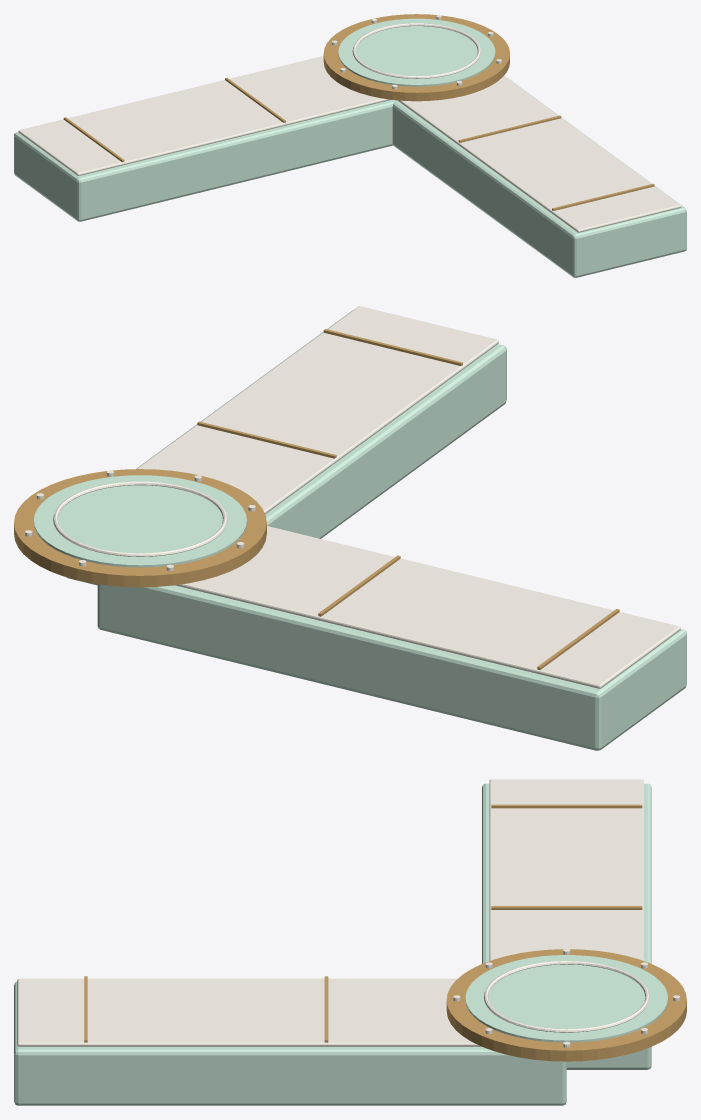
File: bridge_mint.glb
3 renders of one model, top to bottom at view 1: azimuth 30°, elevation 25°; view 2: azimuth 150°, elevation 25°; view 3: azimuth 270°, elevation 25°, orthographic. The views are drawn at different scales.
Parts seen in each view (by area): view 1: West marble, West bridge, South marble, South bridge, Disc inlay, Disc rim, Disc fine line; view 2: West bridge, West marble, South marble, South bridge, Disc inlay, Disc rim, Disc fine line, Walking joint.001, Walking joint.003; view 3: South bridge, South marble, West marble, Disc inlay, Disc rim, West bridge, Disc fine line, Walking joint.002, Walking joint.
Part boxes in pixels (bbox=[...]): West marble: bbox=[18, 56, 390, 175]; West bridge: bbox=[14, 100, 396, 221]; South marble: bbox=[397, 76, 681, 232]; South bridge: bbox=[392, 76, 686, 277]; Disc inlay: bbox=[338, 18, 495, 86]; Disc rim: bbox=[323, 14, 509, 101]; Disc fine line: bbox=[352, 23, 481, 78]; West bridge: bbox=[97, 584, 686, 750]; West marble: bbox=[176, 526, 680, 688]; South marble: bbox=[136, 306, 498, 514]; South bridge: bbox=[66, 310, 506, 585]; Disc inlay: bbox=[34, 475, 246, 567]; Disc rim: bbox=[14, 469, 266, 587]; Disc fine line: bbox=[53, 481, 227, 556]; Walking joint.001: bbox=[197, 421, 336, 458]; Walking joint.003: bbox=[323, 329, 462, 365]; South bridge: bbox=[14, 981, 566, 1105]; South marble: bbox=[17, 978, 480, 1046]; West marble: bbox=[489, 779, 643, 960]; Disc inlay: bbox=[465, 955, 667, 1042]; Disc rim: bbox=[446, 949, 686, 1061]; West bridge: bbox=[482, 783, 651, 1069]; Disc fine line: bbox=[484, 961, 649, 1032]; Walking joint.002: bbox=[491, 804, 642, 808]; Walking joint: bbox=[491, 906, 642, 909].
Bounding box in the file's own units: 3.92 × 0.491 × 3.92.
